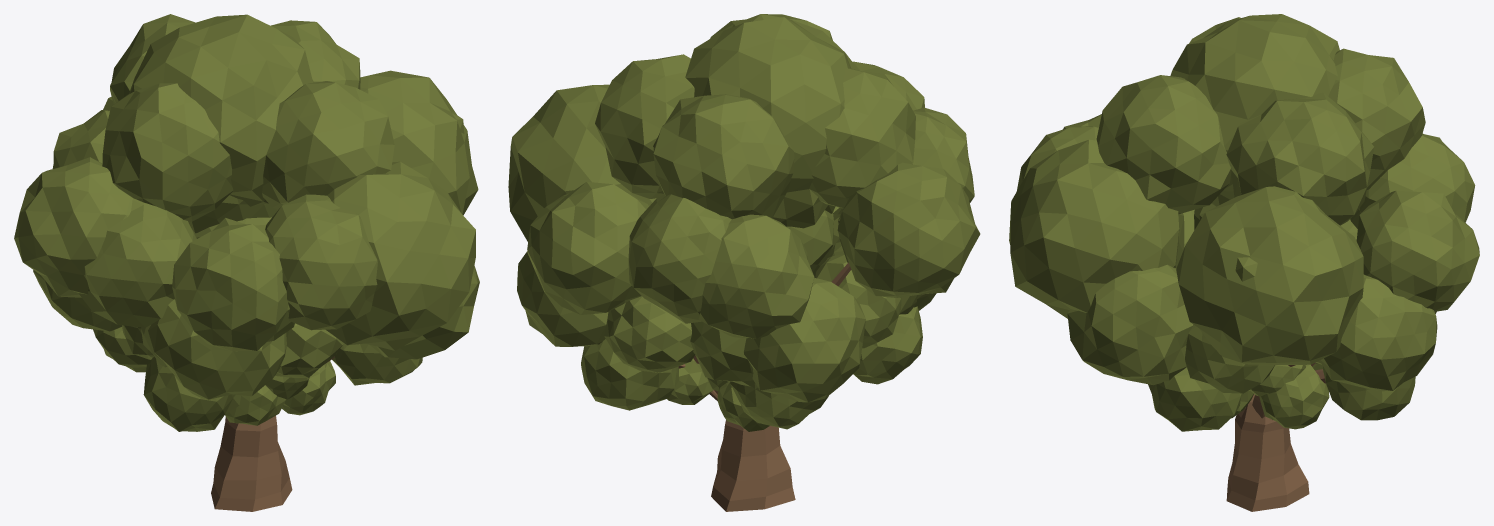
File: trees.glb
3 views of the same model, side by side, from view 1: azimuth 30°, elevation 25°; view 2: azimuth 150°, elevation 25°; view 3: azimuth 270°, elevation 25° (orthographic). The views are drawn at different scales.
Parts seen in each view (by area): view 1: TreeOak, TreeOakM, TreeOakS; view 2: TreeOak, TreeOakM, TreeOakS; view 3: TreeOak, TreeOakM, TreeOakS.
Part boxes in pixels (<box>): TreeOak: <box>14,14,479,511</box>; TreeOakM: <box>93,217,422,431</box>; TreeOakS: <box>225,361,335,425</box>; TreeOak: <box>508,14,980,511</box>; TreeOakM: <box>581,206,922,429</box>; TreeOakS: <box>667,358,769,431</box>; TreeOak: <box>1009,14,1479,511</box>; TreeOakM: <box>1148,203,1436,431</box>; TreeOakS: <box>1231,363,1329,429</box>.
Bounding box in the file's own units: 10.61 × 10.8 × 9.95.
